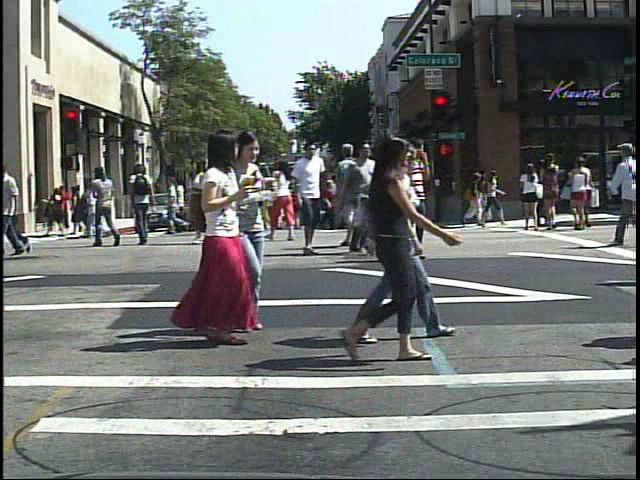person: (324, 127, 458, 363), (346, 134, 457, 346), (183, 128, 267, 349), (233, 128, 272, 334), (386, 134, 441, 263), (375, 136, 421, 261), (287, 136, 328, 260), (339, 138, 377, 249), (360, 143, 394, 250), (237, 146, 273, 246), (608, 130, 637, 251), (269, 148, 300, 248), (88, 163, 122, 248), (130, 165, 160, 246), (517, 158, 545, 234), (285, 164, 306, 233), (57, 183, 77, 233)
